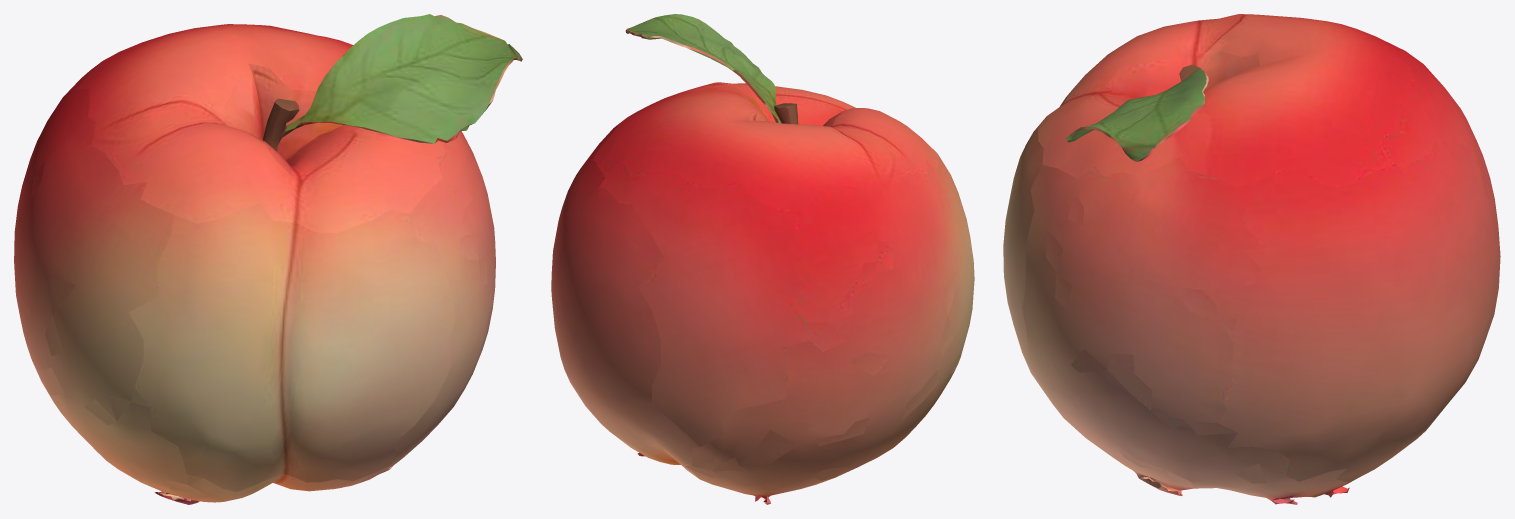
File: peach.glb
3 renders of one model, left to right at view 1: azimuth 30°, elevation 25°; view 2: azimuth 150°, elevation 25°; view 3: azimuth 270°, elevation 25°, orthographic. The views are drawn at different scales.
Visible parts, largest first — view 1: item_peach; view 2: item_peach; view 3: item_peach.
Part boxes in pixels (x1,y1,x2,y2): item_peach: [14, 14, 522, 504]; item_peach: [551, 14, 974, 504]; item_peach: [1003, 14, 1500, 504].
Size of the model in its own units: 0.9836 by 0.9565 by 1.
Materials: 1 (1 with a texture image).
